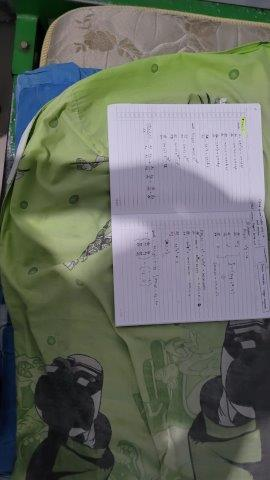kertas: (105, 104, 270, 326)
